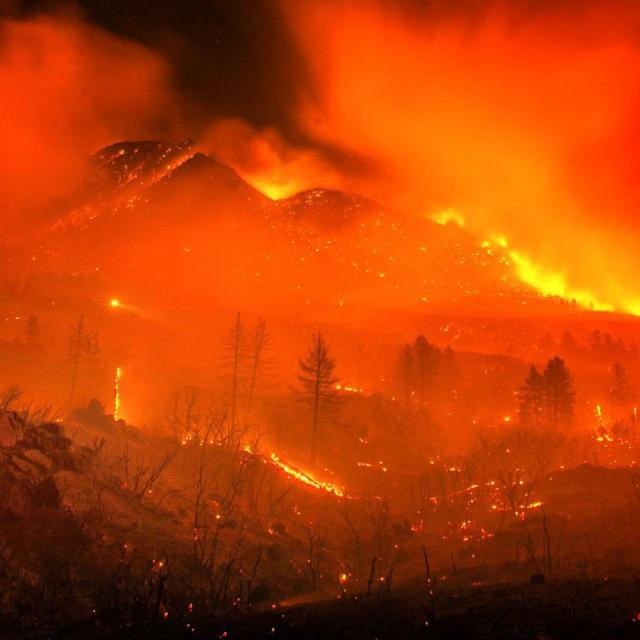Fire: (484, 232, 603, 306), (260, 451, 362, 507), (246, 178, 306, 202), (432, 204, 474, 236), (114, 368, 124, 425)
